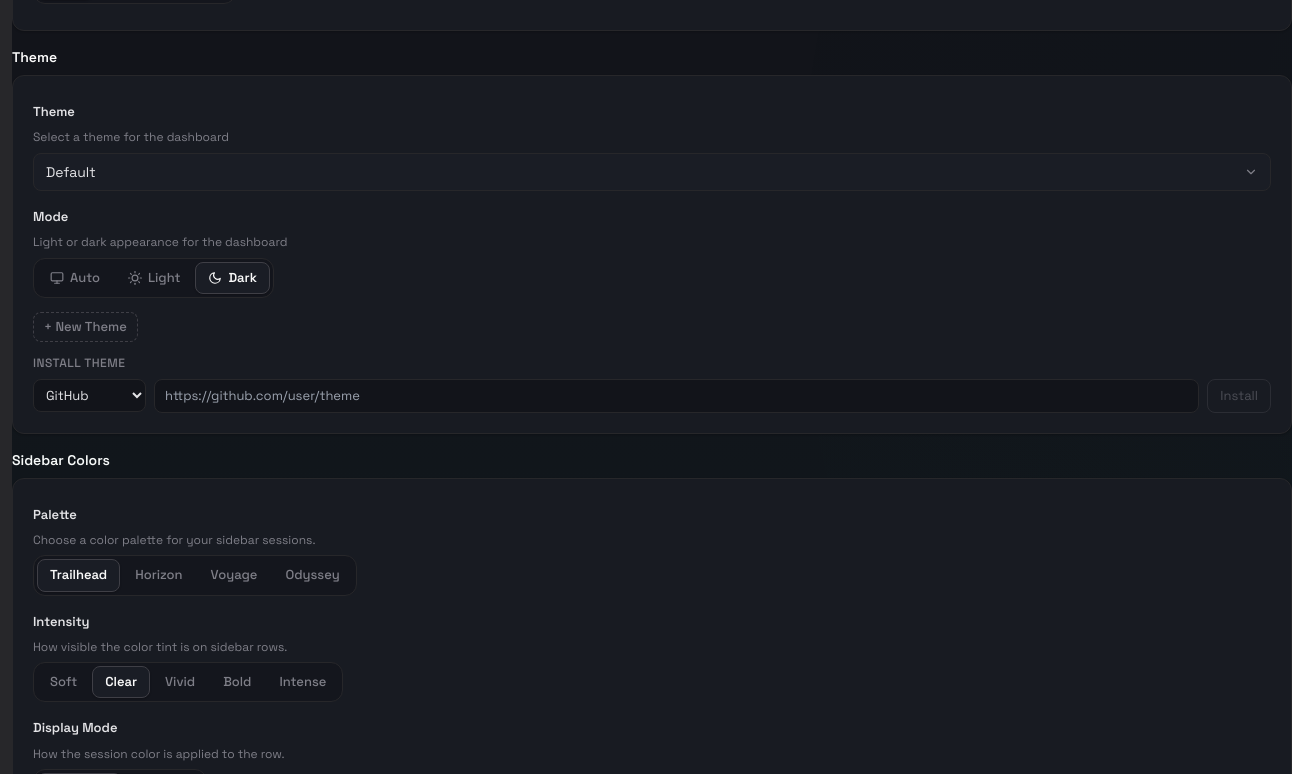
Scenario: DisplayPanel – theme install › shows "Fetching…" on the install button while installTheme is pending
The image size is (1292, 774).
(page scrolled)
Type "https://github.com/u/x" into the field named "Theme source location".
click(677, 396); type("https://github.com/u/x")  # box [154,379,1199,413]
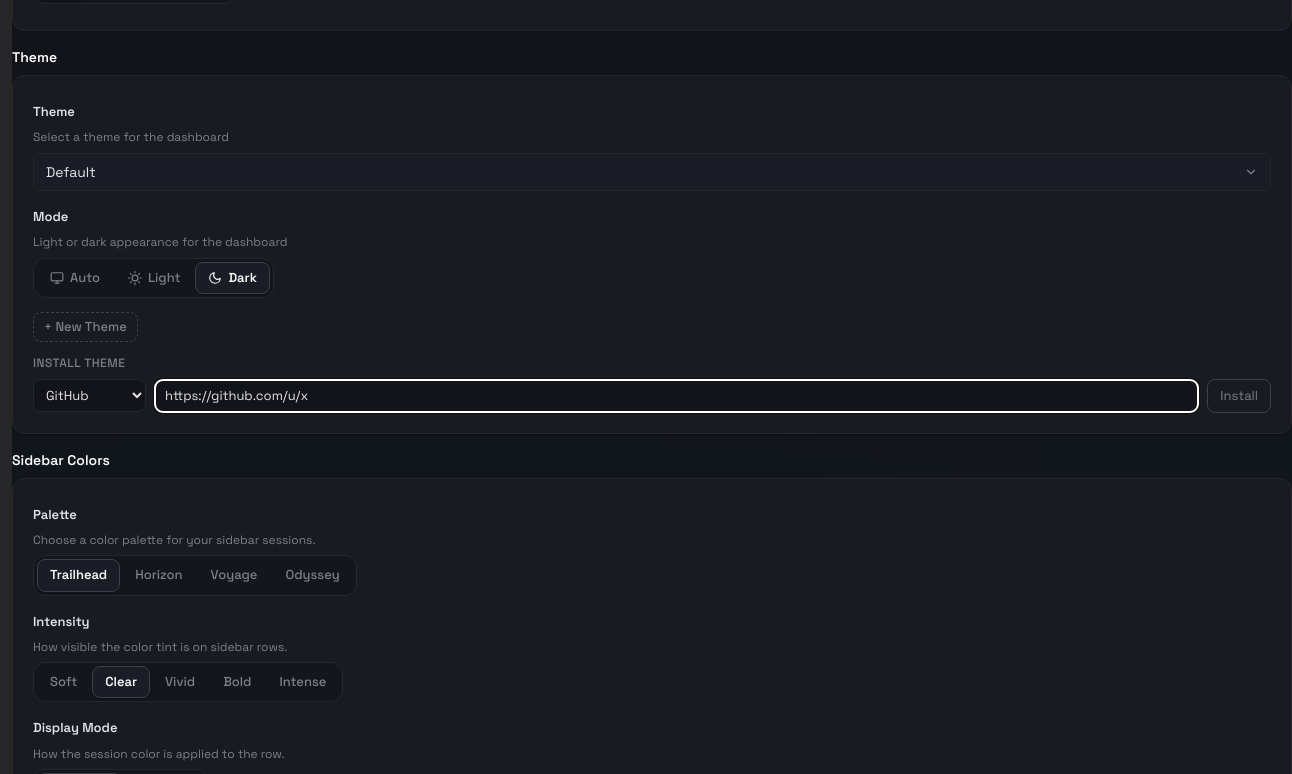
Click the button "Install".
click(1239, 396)  # box [1207,379,1271,413]
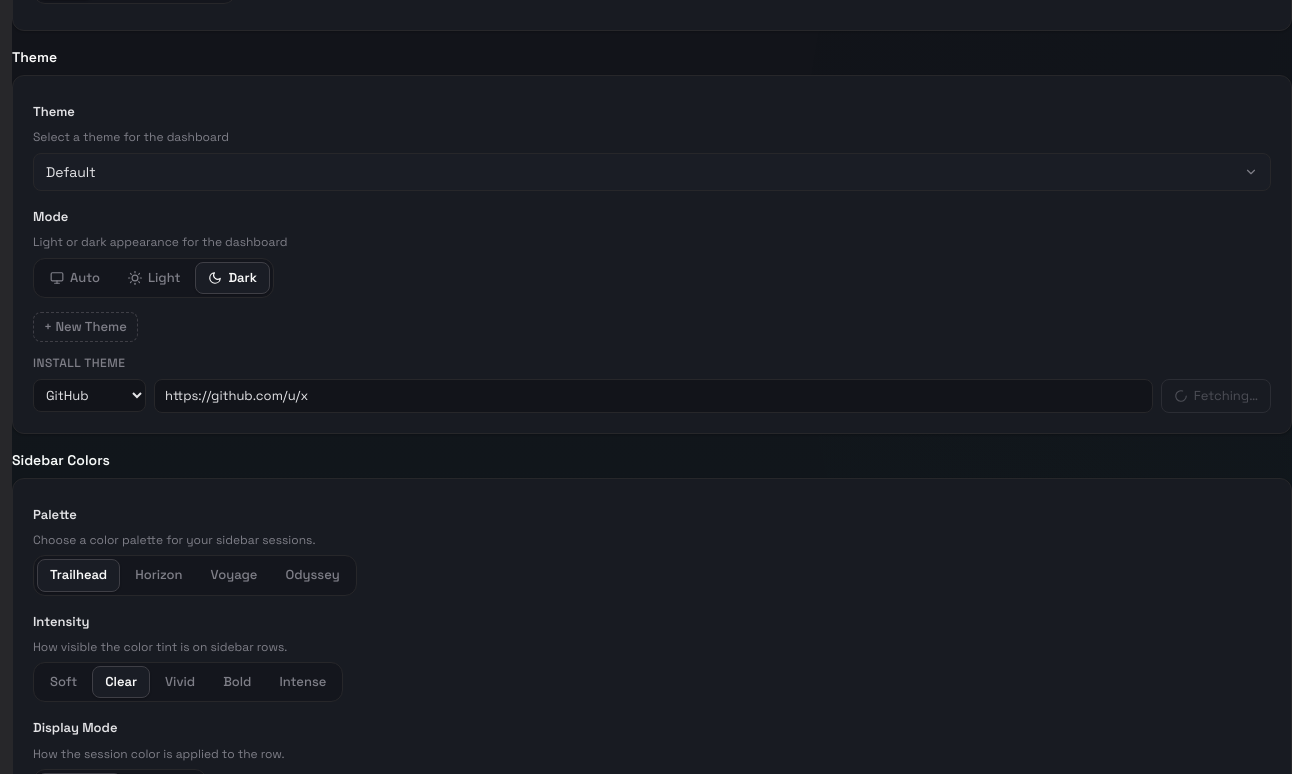
Expected: the button "Fetching…" is shown, [1161,379,1271,413]
